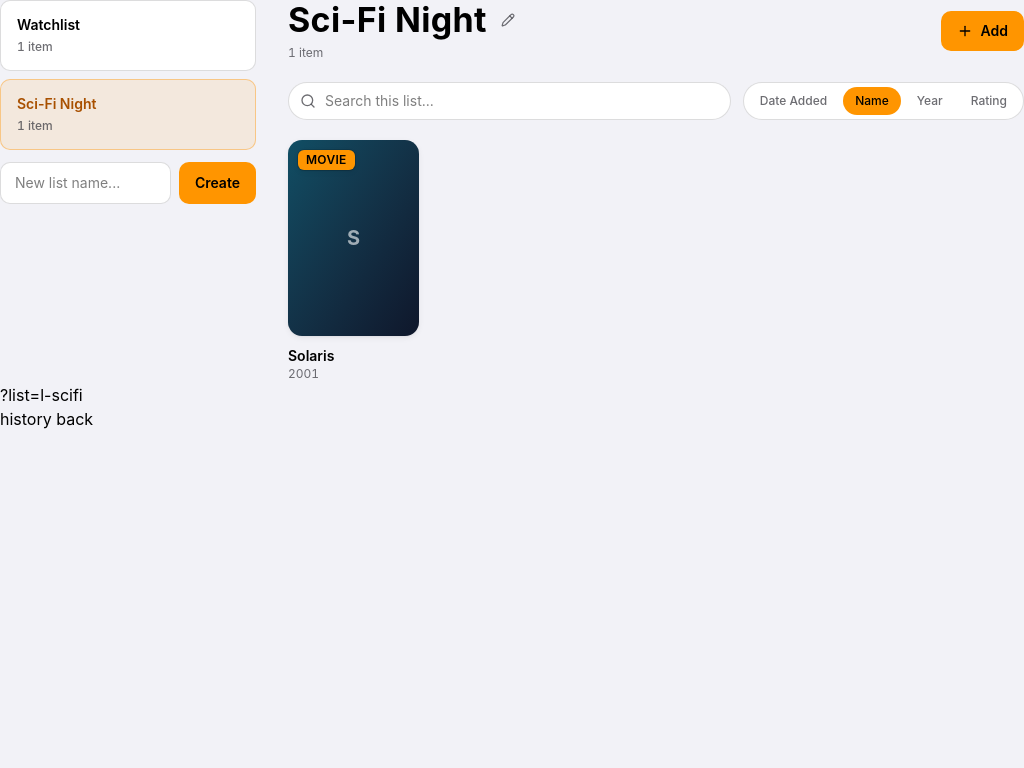
Test case: ListsPage add-item modal › ignores a slow search that lands after a newer one
expect the text "Solaris" is shown: met, box x1=288 y1=347 x2=334 y2=364
Click the button "Add" at (982,31), box x1=940 y1=11 x2=1023 y2=51
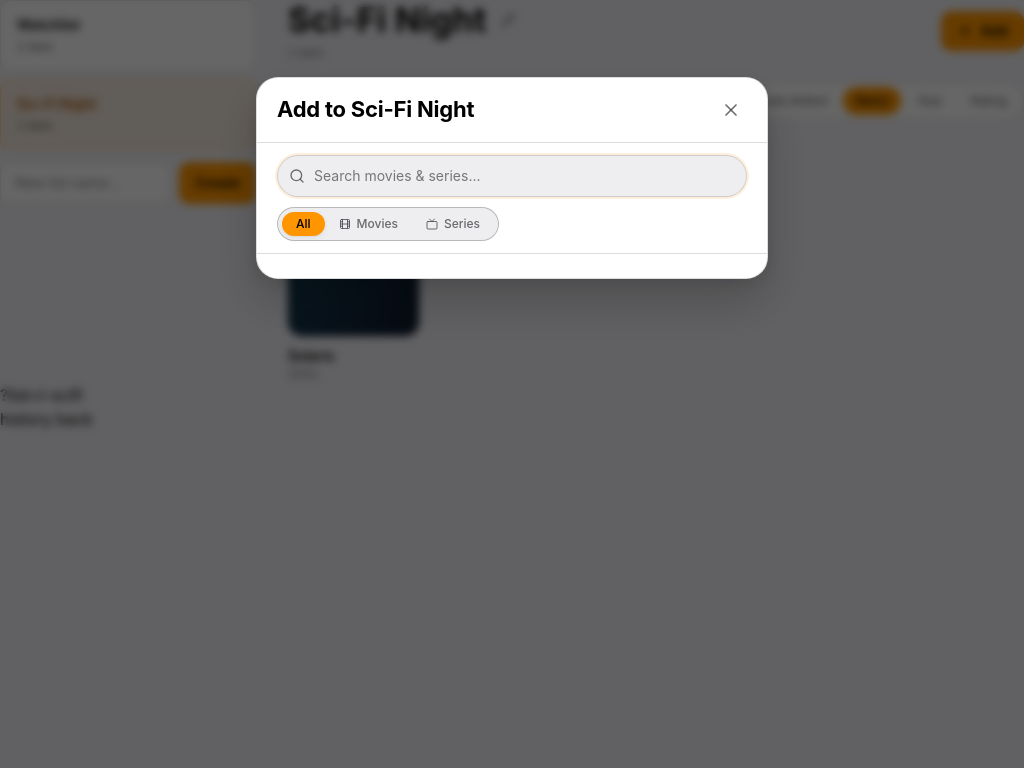
Type "sol" into the field named "Search movies and series" at (512,176), box x1=277 y1=155 x2=747 y2=197
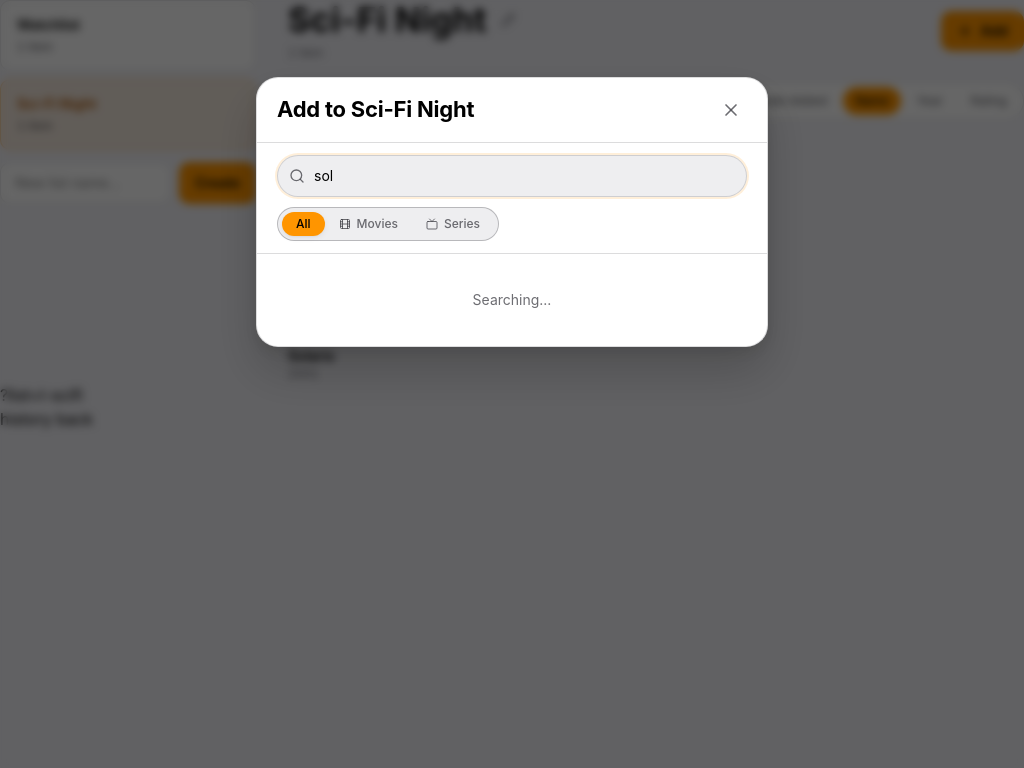
Type "ar" into the field named "Search movies and series" at (512,176), box x1=277 y1=155 x2=747 y2=197
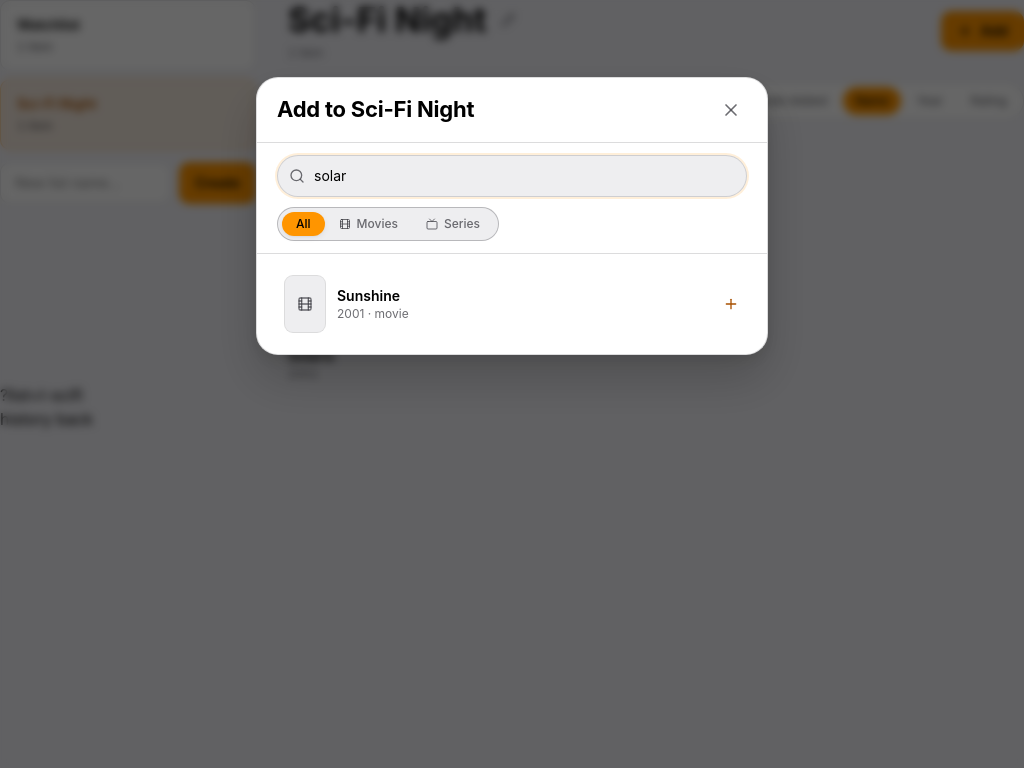
expect the button "Sunshine 2001 · movie" is shown: met, box x1=277 y1=266 x2=747 y2=342
